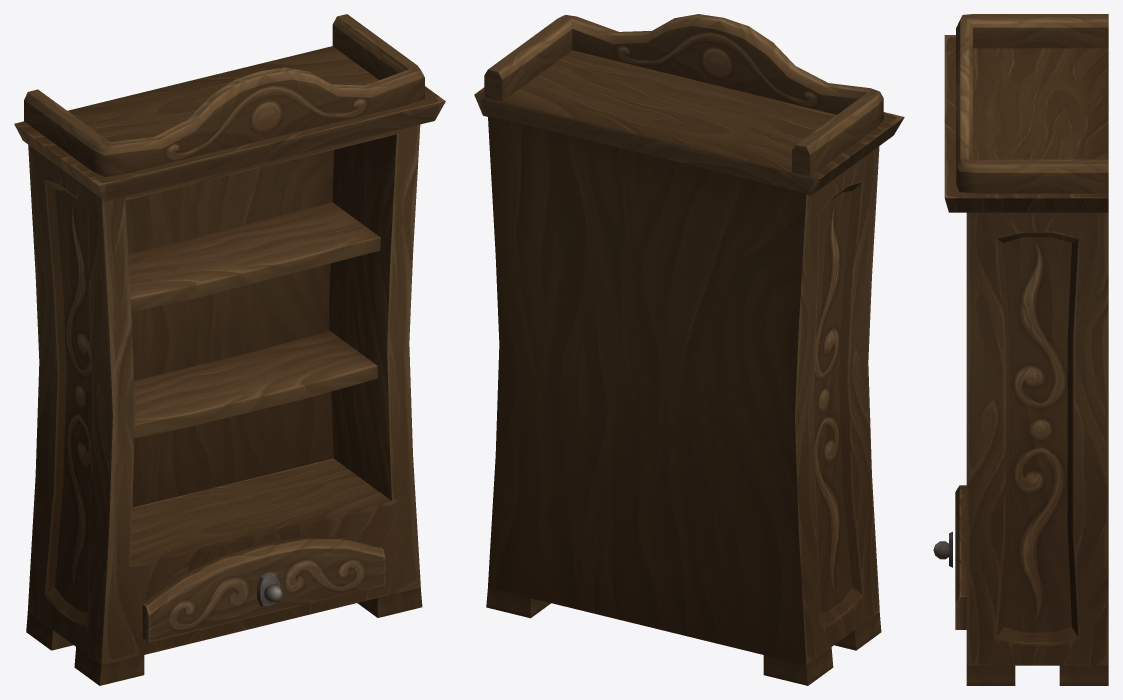
Rendered from Bookcase.FBX.
3 renders of one model, left to right at view 1: azimuth 30°, elevation 25°; view 2: azimuth 150°, elevation 25°; view 3: azimuth 270°, elevation 25°, orthographic. The views are drawn at different scales.
Visible parts, largest first — view 1: Bookcase; view 2: Bookcase; view 3: Bookcase.
Boxes of the visible parts, left/top/right/bottom form: Bookcase: left=14, top=14, right=445, bottom=685; Bookcase: left=474, top=14, right=904, bottom=685; Bookcase: left=933, top=14, right=1108, bottom=685.
Bounding box in the file's own units: 1629 × 2577 × 738.
Materials: 1 (1 with a texture image).
